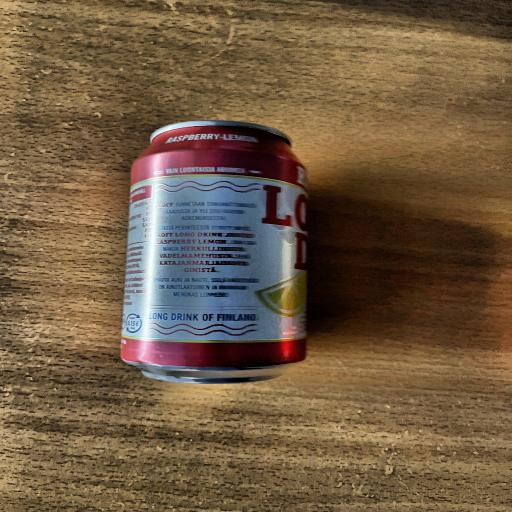koff: (118, 111, 318, 398)
